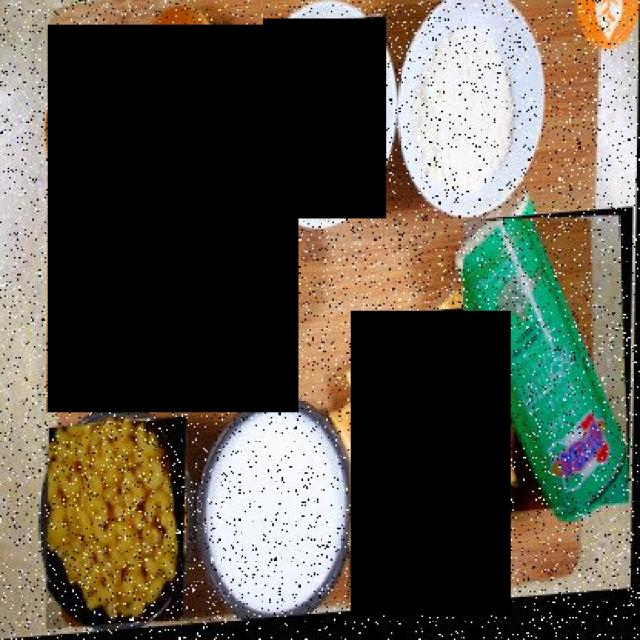Bread: (48, 25, 298, 413)
Butter: (264, 19, 387, 218)
Cheese: (352, 311, 511, 615)
